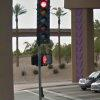Traffic light: (29, 3, 58, 76)
